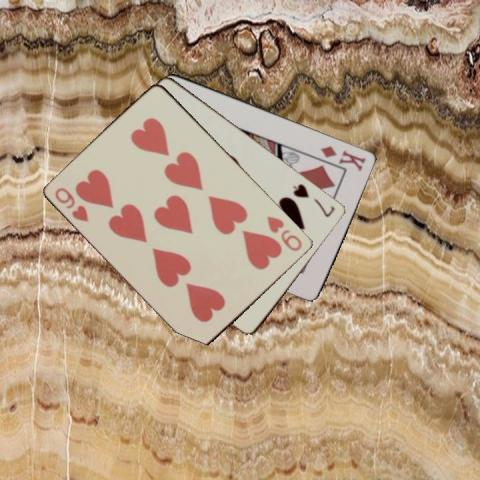7s: (290, 181, 337, 218)
9h: (264, 212, 304, 252), (52, 184, 91, 224)
Kd: (318, 143, 367, 173)
